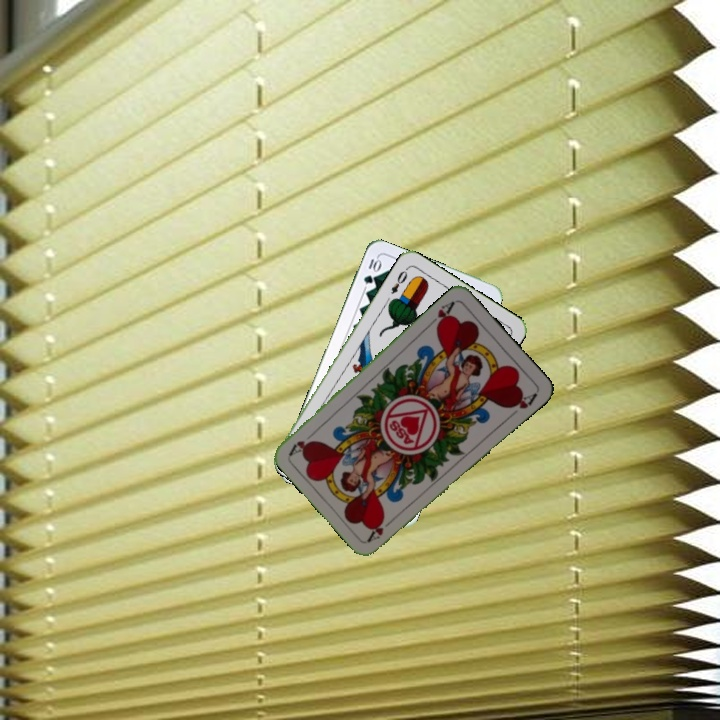EO: (387, 264, 411, 297)
G10: (359, 254, 383, 287)
HA: (425, 297, 458, 331), (364, 513, 398, 544)
